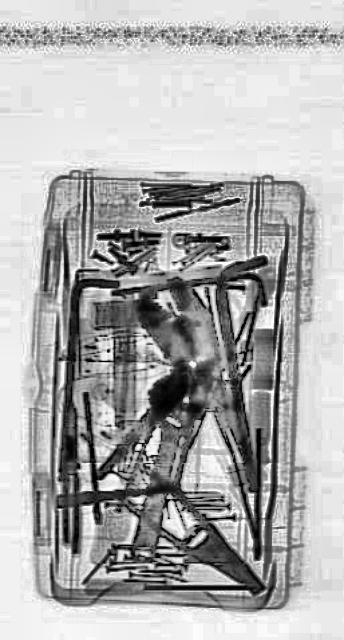Pliers: (118, 446, 266, 622)
Wrench: (117, 354, 203, 580)
